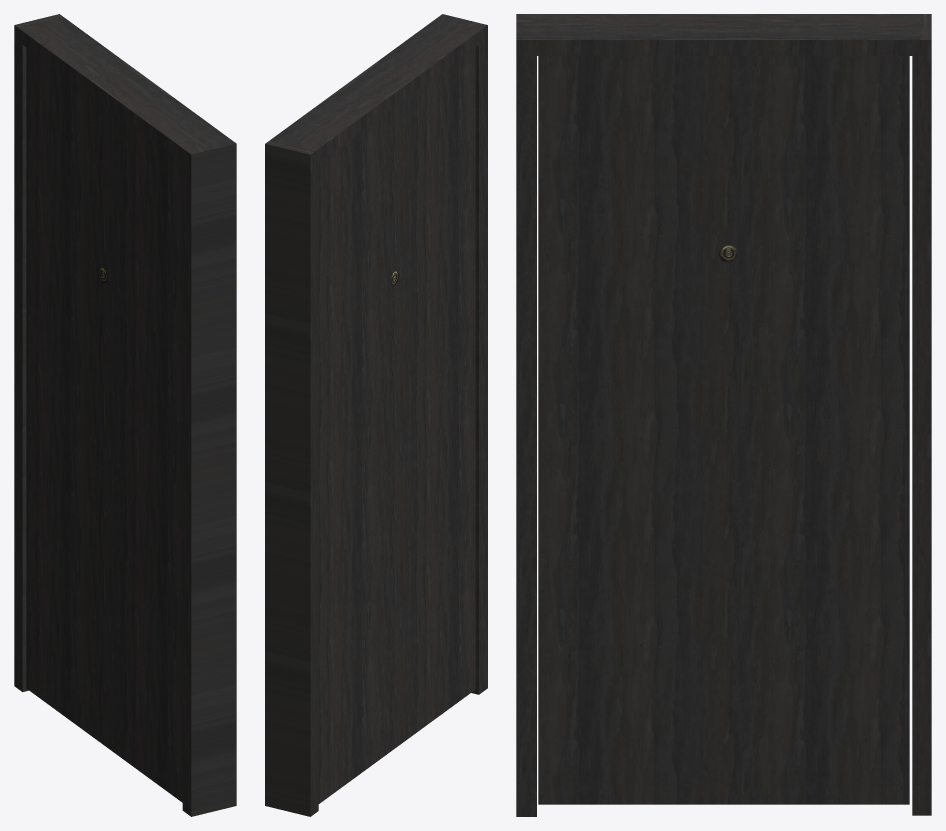
Rendered from Gate.fbx.
3 views of the same model, side by side, from view 1: azimuth 30°, elevation 25°; view 2: azimuth 150°, elevation 25°; view 3: azimuth 270°, elevation 25° (orthographic). The views are drawn at different scales.
Parts seen in each view (by area): view 1: polySurface1233; view 2: polySurface1233; view 3: polySurface1233.
Part boxes in pixels (bbox=[...]): polySurface1233: bbox=[14, 14, 236, 816]; polySurface1233: bbox=[265, 14, 487, 816]; polySurface1233: bbox=[516, 14, 931, 816].
Bounding box in the file's own units: 0.1482 × 2.07 × 1.
Materials: 1 (1 with a texture image).
